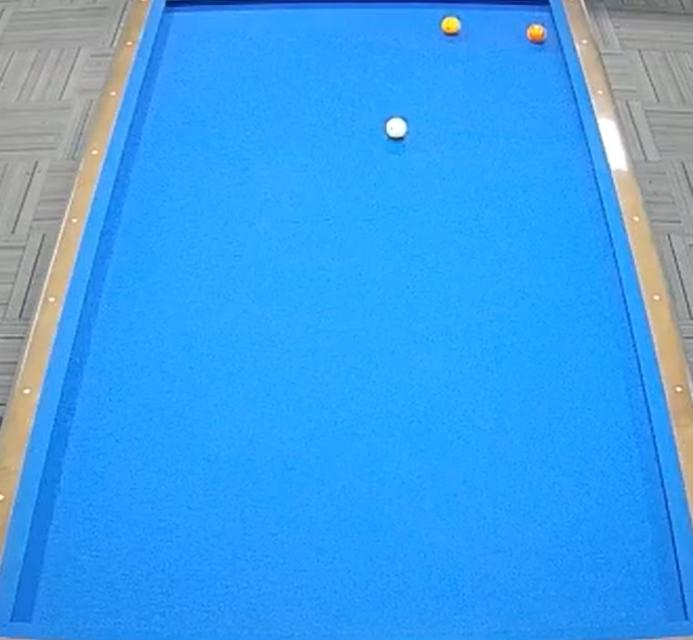orange ball: (523, 19, 550, 51)
white ball: (380, 111, 413, 147)
yellow ball: (438, 12, 466, 40)
